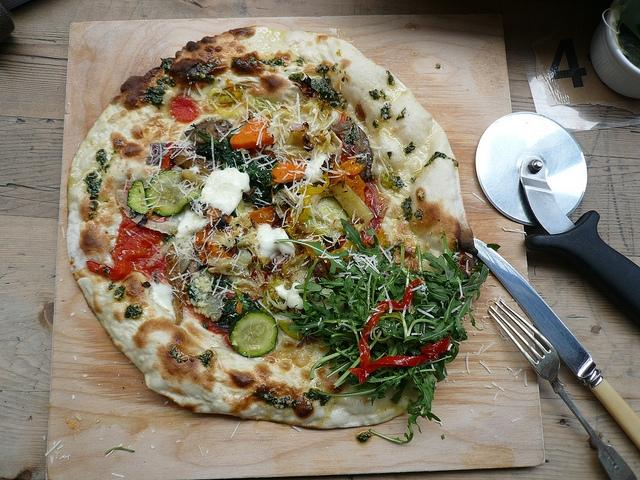bell pepper: (348, 278, 424, 377), (85, 210, 169, 284), (359, 350, 447, 384), (364, 186, 382, 234)
cucumber: (145, 170, 204, 216), (228, 309, 278, 357), (306, 196, 352, 237), (126, 180, 151, 214)
